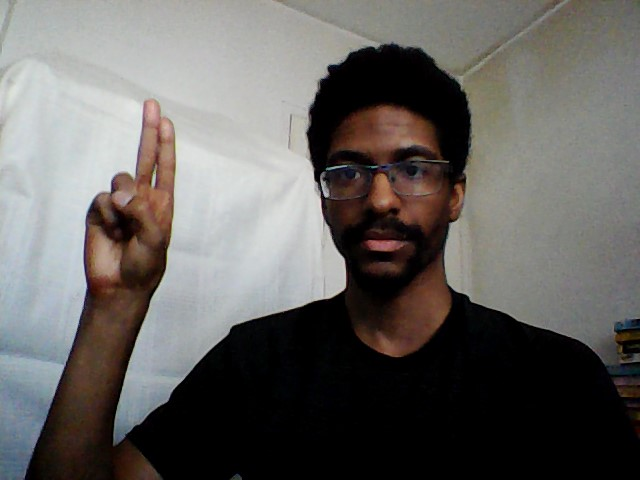u: (79, 94, 183, 297)
